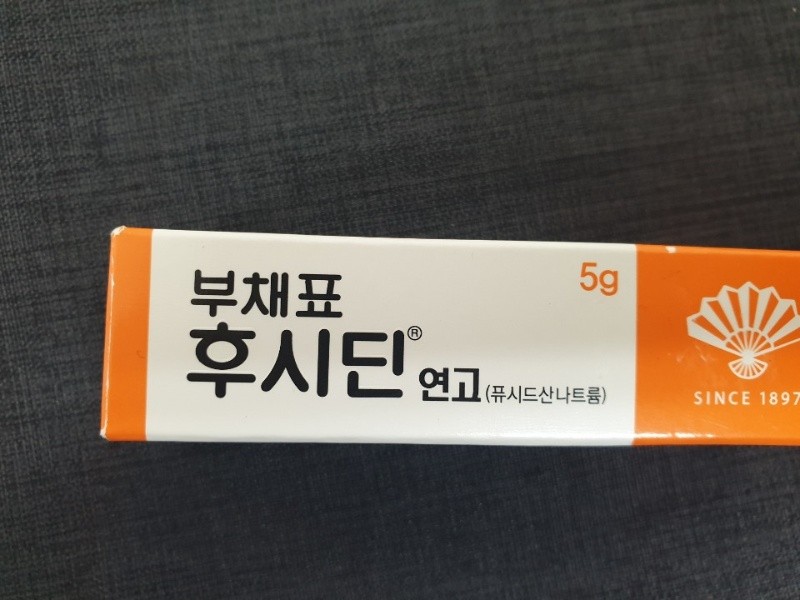fucidin: (103, 226, 800, 447)
